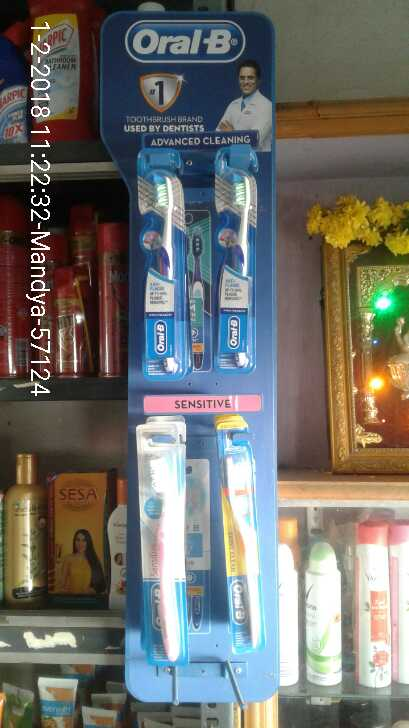oralb: (132, 167, 195, 390), (136, 438, 195, 667), (207, 179, 258, 386), (220, 442, 265, 654)
